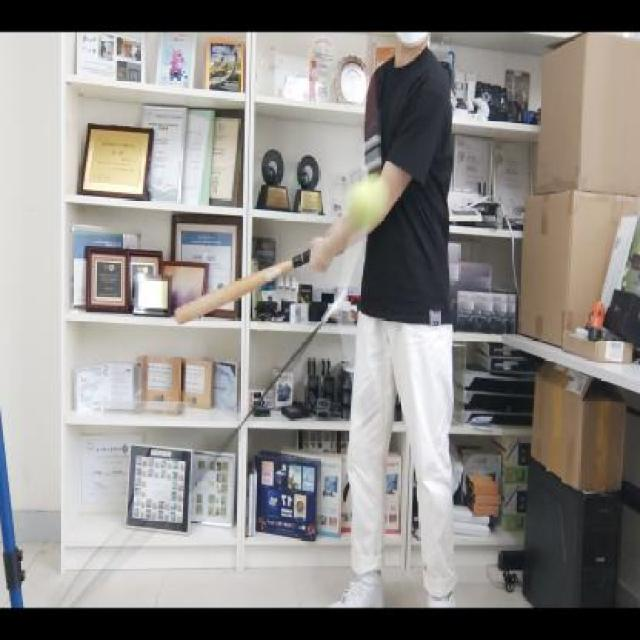baseball: (342, 172, 392, 234)
